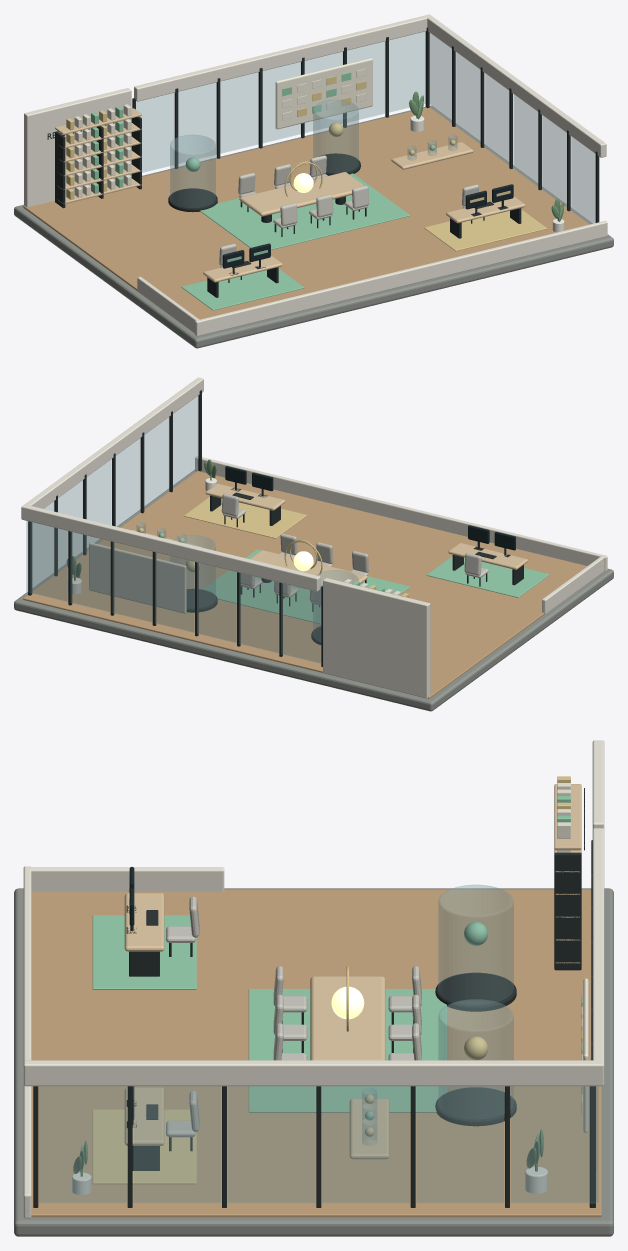
The model's file is research_lab_floor.glb.
The picture shows the model from 3 angles, top to bottom: view 1: azimuth 30°, elevation 25°; view 2: azimuth 150°, elevation 25°; view 3: azimuth 270°, elevation 25°; orthographic projection. The views are drawn at different scales.
Parts seen in each view (by area): view 1: ARCH_FINISH_FLOOR, ARCH_FLOOR_SLAB, ARCH_FRONT_EDGE, IDEA_RUG, ARCH_BACK_TOP, ARCH_BACK_WALL, DISCOVERY_BOARD, ARCH_RIGHT_TOP, IDEA_POD_-2.8, IDEA_POD_2.8, WIN_BACK_GLASS_2, WIN_BACK_GLASS_1 (+23 smaller); view 2: ARCH_FINISH_FLOOR, ARCH_BACK_WALL, ARCH_FLOOR_SLAB, ARCH_FRONT_EDGE, ARCH_BACK_TOP, DISCOVERY_BOARD, ARCH_RIGHT_TOP, IDEA_RUG, WIN_BACK_GLASS_0, WIN_BACK_GLASS_1, WIN_BACK_GLASS_2, WIN_BACK_GLASS_3 (+18 smaller); view 3: ARCH_FINISH_FLOOR, ARCH_FLOOR_SLAB, ARCH_RIGHT_TOP, WIN_RIGHT_GLASS_0, WIN_RIGHT_GLASS_1, WIN_RIGHT_GLASS_2, WIN_RIGHT_GLASS_3, WIN_RIGHT_GLASS_4, WIN_RIGHT_GLASS_5, IDEA_RUG, IDEA_POD_-2.8, IDEA_TABLE (+22 smaller).
Boxes of the visible parts, x1,y1,x2,y2 form: ARCH_FINISH_FLOOR: [23, 107, 589, 319]; ARCH_FLOOR_SLAB: [14, 105, 613, 348]; ARCH_FRONT_EDGE: [195, 220, 607, 336]; IDEA_RUG: [200, 173, 410, 249]; ARCH_BACK_TOP: [134, 14, 431, 101]; ARCH_BACK_WALL: [24, 88, 131, 207]; DISCOVERY_BOARD: [275, 58, 372, 129]; ARCH_RIGHT_TOP: [427, 15, 606, 157]; IDEA_POD_-2.8: [170, 135, 215, 207]; IDEA_POD_2.8: [313, 100, 358, 172]; WIN_BACK_GLASS_2: [220, 72, 258, 153]; WIN_BACK_GLASS_1: [178, 83, 216, 163]; ARCH_FINISH_FLOOR: [23, 471, 587, 698]; ARCH_BACK_WALL: [323, 578, 430, 698]; ARCH_FLOOR_SLAB: [14, 469, 613, 711]; ARCH_FRONT_EDGE: [195, 456, 607, 571]; ARCH_BACK_TOP: [21, 505, 320, 591]; DISCOVERY_BOARD: [89, 542, 186, 613]; ARCH_RIGHT_TOP: [22, 377, 203, 520]; IDEA_RUG: [203, 549, 409, 623]; WIN_BACK_GLASS_0: [281, 583, 320, 663]; WIN_BACK_GLASS_1: [239, 573, 278, 653]; WIN_BACK_GLASS_2: [197, 562, 236, 642]; WIN_BACK_GLASS_3: [155, 552, 194, 632]; ARCH_FINISH_FLOOR: [31, 889, 601, 1217]; ARCH_FLOOR_SLAB: [14, 888, 613, 1236]; ARCH_RIGHT_TOP: [23, 1060, 603, 1086]; WIN_RIGHT_GLASS_0: [39, 1086, 126, 1202]; WIN_RIGHT_GLASS_1: [133, 1086, 220, 1202]; WIN_RIGHT_GLASS_2: [228, 1086, 315, 1202]; WIN_RIGHT_GLASS_3: [322, 1086, 409, 1202]; WIN_RIGHT_GLASS_4: [416, 1086, 503, 1202]; WIN_RIGHT_GLASS_5: [511, 1086, 598, 1202]; IDEA_RUG: [248, 989, 446, 1112]; IDEA_POD_-2.8: [438, 885, 513, 1001]; IDEA_TABLE: [310, 976, 385, 1060].
Bounding box in the file's own units: 16.4 × 3.86 × 12.4.
